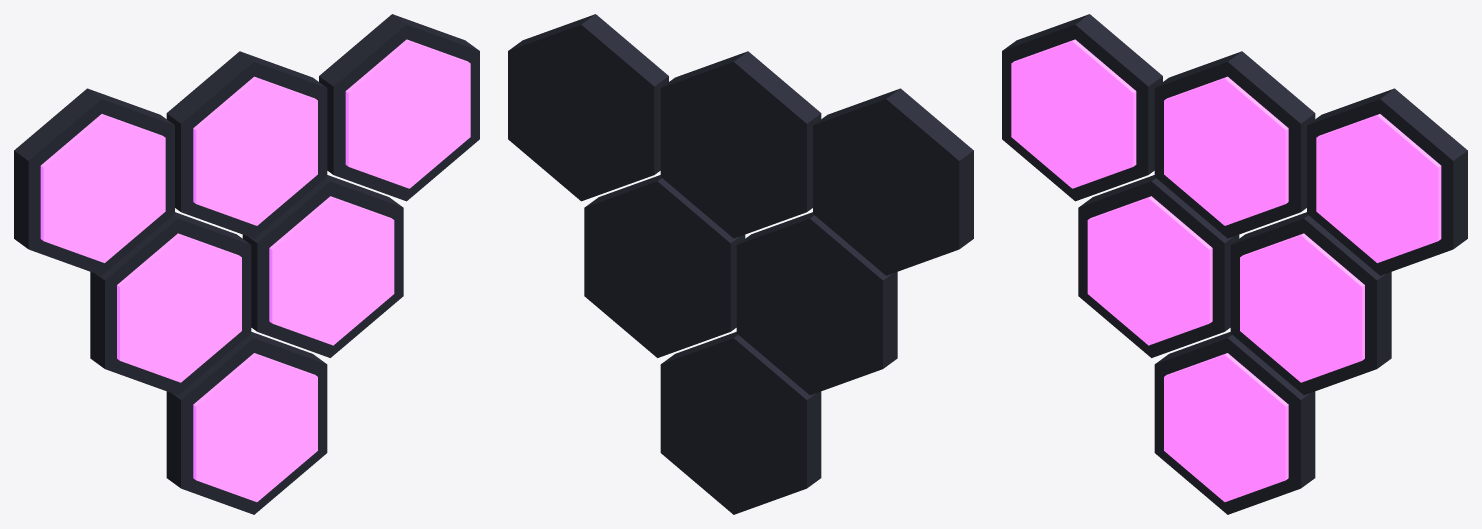
The model's file is deco_paneles_hex.glb.
3 renders of one model, left to right at view 1: azimuth 30°, elevation 25°; view 2: azimuth 150°, elevation 25°; view 3: azimuth 330°, elevation 25°, orthographic.
Parts seen in each view (by area): view 1: hex luz 1.001, hex luz 4.001, hex luz 3.001, hex luz 0.001, hex luz 5.001, hex luz 2.001, hex 3.001, hex 2.001, hex 4.001, hex 5.001, hex 0.001, hex 1.001; view 2: hex 3.001, hex 2.001, hex 4.001, hex 0.001, hex 5.001, hex 1.001; view 3: hex luz 0.001, hex luz 3.001, hex luz 4.001, hex luz 1.001, hex luz 5.001, hex luz 2.001, hex 4.001, hex 2.001, hex 3.001, hex 5.001, hex 1.001, hex 0.001.
Boxes of the visible parts, x1,y1,x2,y2 form: hex luz 1.001: [269, 196, 394, 345]; hex luz 4.001: [345, 39, 470, 188]; hex luz 3.001: [40, 114, 165, 262]; hex luz 0.001: [117, 233, 241, 382]; hex luz 5.001: [193, 353, 317, 501]; hex luz 2.001: [193, 76, 317, 225]; hex 3.001: [14, 88, 174, 275]; hex 2.001: [166, 51, 327, 238]; hex 4.001: [319, 14, 479, 201]; hex 5.001: [166, 332, 327, 514]; hex 0.001: [90, 212, 251, 395]; hex 1.001: [242, 175, 403, 357]; hex 3.001: [813, 88, 973, 275]; hex 2.001: [660, 51, 821, 238]; hex 4.001: [508, 14, 668, 201]; hex 0.001: [736, 212, 897, 395]; hex 5.001: [660, 332, 821, 514]; hex 1.001: [584, 175, 745, 357]; hex luz 0.001: [1087, 196, 1212, 345]; hex luz 3.001: [1011, 39, 1136, 188]; hex luz 4.001: [1316, 114, 1441, 262]; hex luz 1.001: [1240, 233, 1364, 382]; hex luz 5.001: [1164, 353, 1288, 501]; hex luz 2.001: [1164, 76, 1288, 225]; hex 4.001: [1307, 88, 1467, 275]; hex 2.001: [1154, 51, 1315, 238]; hex 3.001: [1002, 14, 1162, 201]; hex 5.001: [1154, 332, 1315, 514]; hex 1.001: [1230, 212, 1391, 395]; hex 0.001: [1078, 175, 1239, 357].
Size of the model in its own units: 0.5383 by 0.5166 by 0.036.
